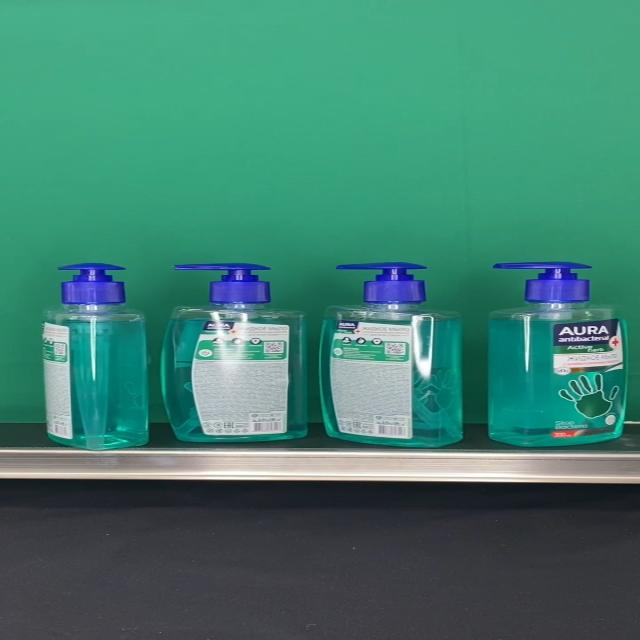Bottle: (320, 262, 463, 448), (160, 263, 306, 444), (489, 260, 629, 448), (41, 262, 150, 450)
Cap: (493, 261, 593, 303), (175, 263, 270, 305), (337, 262, 429, 304), (58, 263, 127, 305)
